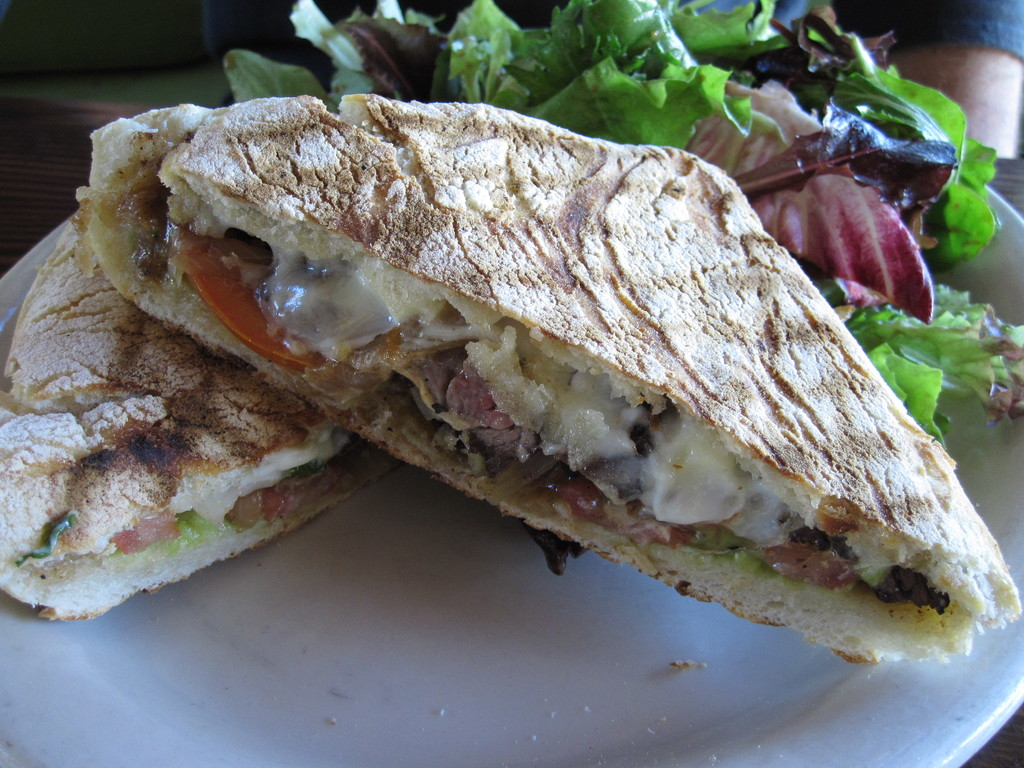sandwich: (88, 99, 1021, 667), (1, 97, 401, 623)
